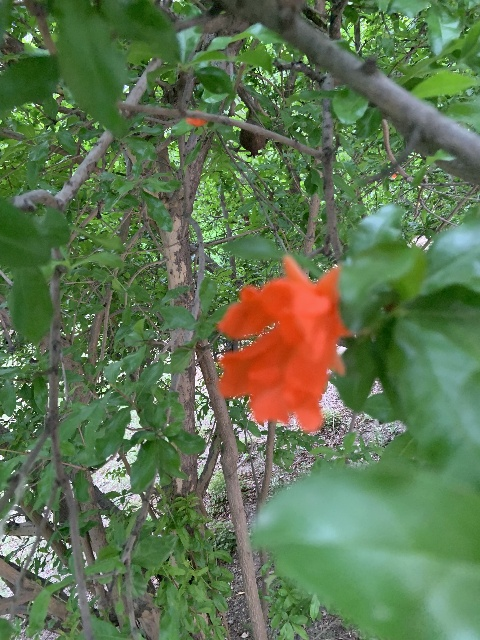flower: (214, 254, 352, 432)
